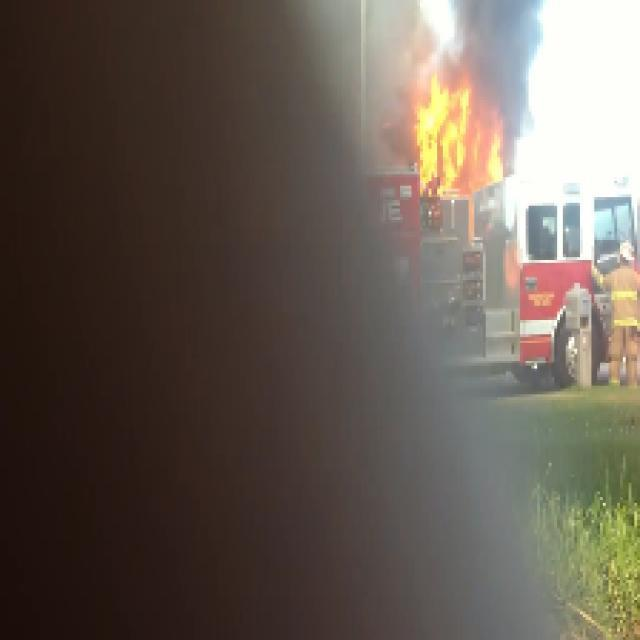Fire: (414, 77, 502, 186)
Smoke: (443, 2, 546, 74)
